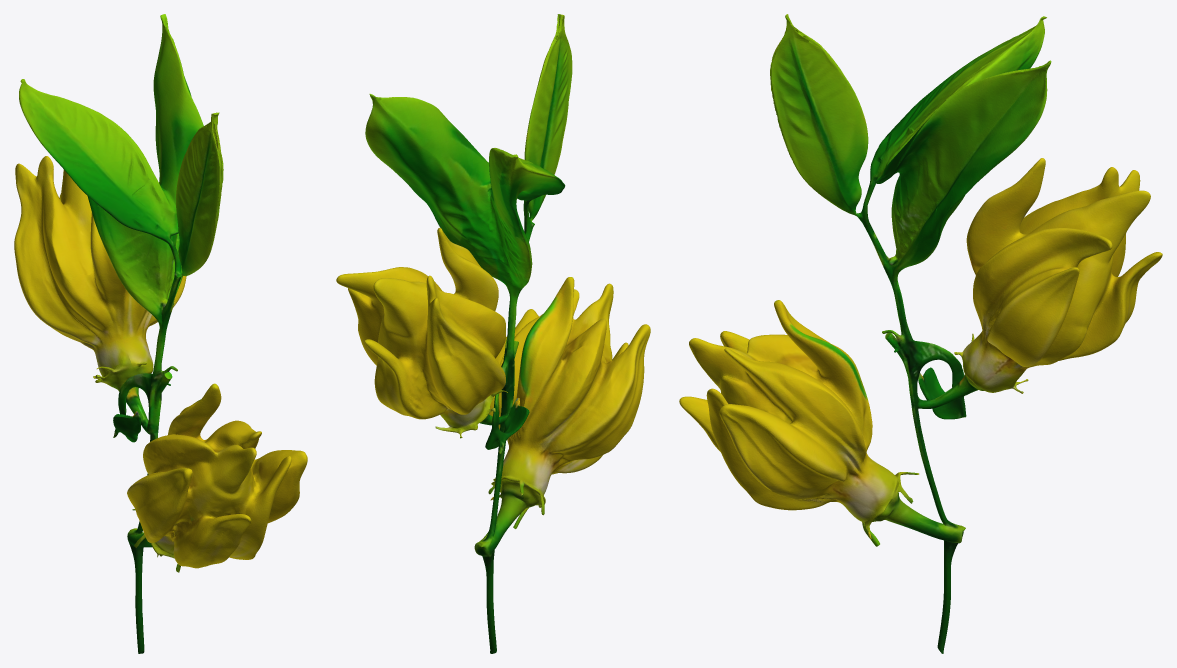
File: ylang1.glb
3 renders of one model, left to right at view 1: azimuth 30°, elevation 25°; view 2: azimuth 150°, elevation 25°; view 3: azimuth 270°, elevation 25°, orthographic. The views are drawn at different scales.
Parts seen in each view (by area): view 1: tripo_node_adfd119d-51d4-417a-93db-ed4d20d4a32a; view 2: tripo_node_adfd119d-51d4-417a-93db-ed4d20d4a32a; view 3: tripo_node_adfd119d-51d4-417a-93db-ed4d20d4a32a.
Part boxes in pixels (x1,y1,x2,y2): tripo_node_adfd119d-51d4-417a-93db-ed4d20d4a32a: [14, 14, 307, 653]; tripo_node_adfd119d-51d4-417a-93db-ed4d20d4a32a: [336, 14, 650, 653]; tripo_node_adfd119d-51d4-417a-93db-ed4d20d4a32a: [679, 14, 1162, 653].
Bounding box in the file's own units: 0.2942 × 1 × 0.6858.
1 material, 1 textured.
